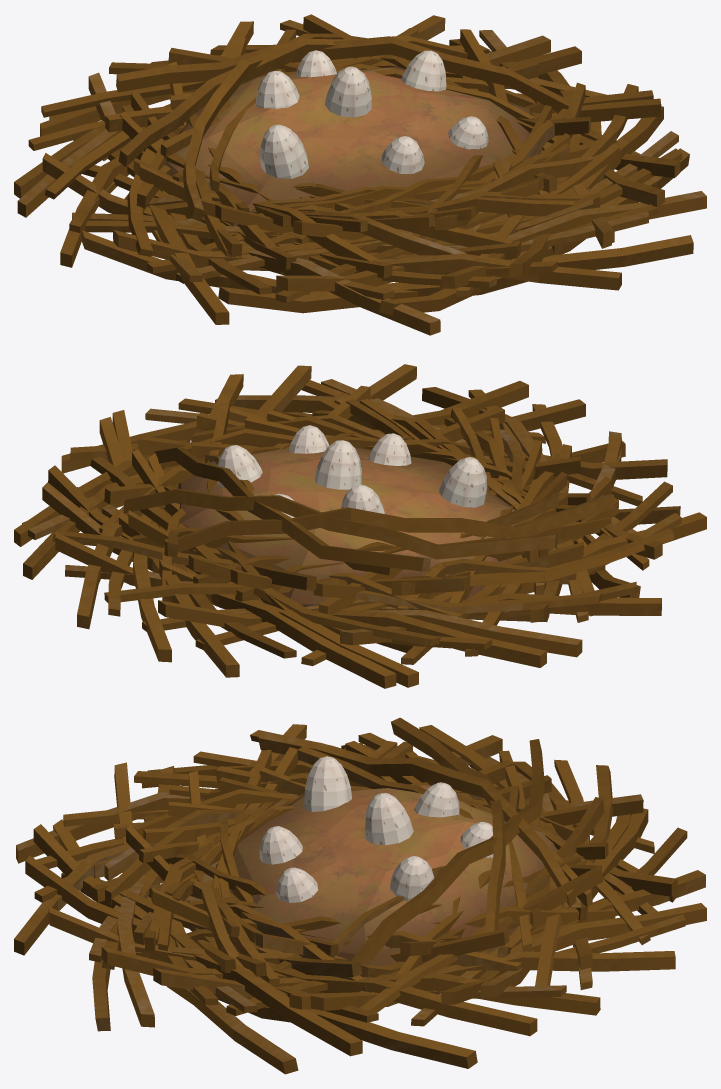
File: Nest.fbx
The picture shows the model from 3 angles, top to bottom: view 1: azimuth 30°, elevation 25°; view 2: azimuth 150°, elevation 25°; view 3: azimuth 270°, elevation 25°; orthographic projection. The views are drawn at different scales.
Parts seen in each view (by area): view 1: Nest, Bladerdek, pSphere8; view 2: Nest, Bladerdek, pSphere8; view 3: Nest, Bladerdek, pSphere8.
Boxes of the visible parts, x1=… form: Nest: x1=14, y1=14, x2=706, y2=335; Bladerdek: x1=165, y1=66, x2=541, y2=226; pSphere8: x1=256, y1=50, x2=488, y2=178; Nest: x1=14, y1=364, x2=706, y2=688; Bladerdek: x1=178, y1=445, x2=516, y2=606; pSphere8: x1=217, y1=425, x2=487, y2=519; Nest: x1=14, y1=717, x2=706, y2=1074; Bladerdek: x1=229, y1=785, x2=564, y2=966; pSphere8: x1=259, y1=756, x2=493, y2=902.
Bounding box in the file's own units: 443 × 101 × 431.
